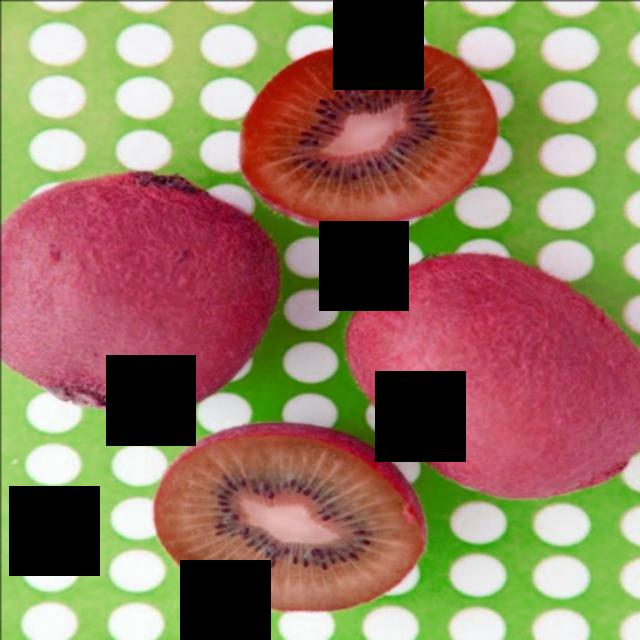kiwi: (342, 250, 640, 504), (2, 169, 286, 414)
